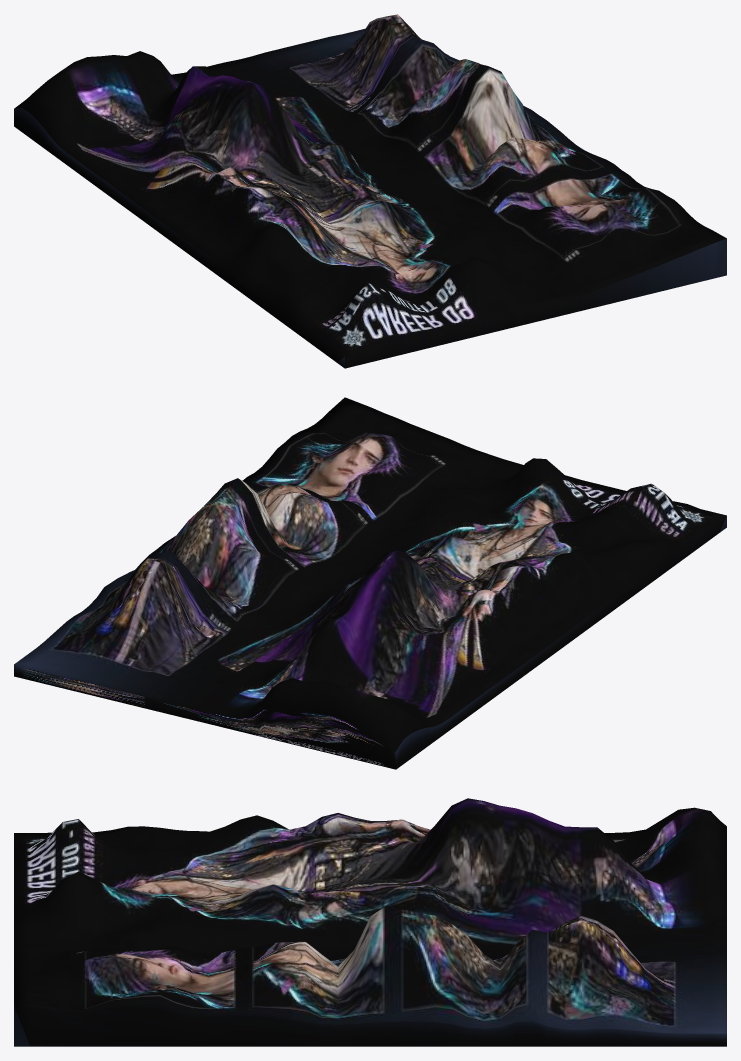
Rendered from CAREER_09_Outfit_08_Festival.glb.
The picture shows the model from 3 angles, top to bottom: view 1: azimuth 30°, elevation 25°; view 2: azimuth 150°, elevation 25°; view 3: azimuth 270°, elevation 25°; orthographic projection. The views are drawn at different scales.
Visible parts, largest first — view 1: CAREER_09_Outfit_08_Festival; view 2: CAREER_09_Outfit_08_Festival; view 3: CAREER_09_Outfit_08_Festival.
Boxes of the visible parts, left/top/right/bottom form: CAREER_09_Outfit_08_Festival: left=14, top=14, right=726, bottom=368; CAREER_09_Outfit_08_Festival: left=14, top=397, right=726, bottom=769; CAREER_09_Outfit_08_Festival: left=14, top=798, right=726, bottom=1046.
Size of the model in its own units: 2 by 0.51 by 3.
Materials: 1 (1 with a texture image).
